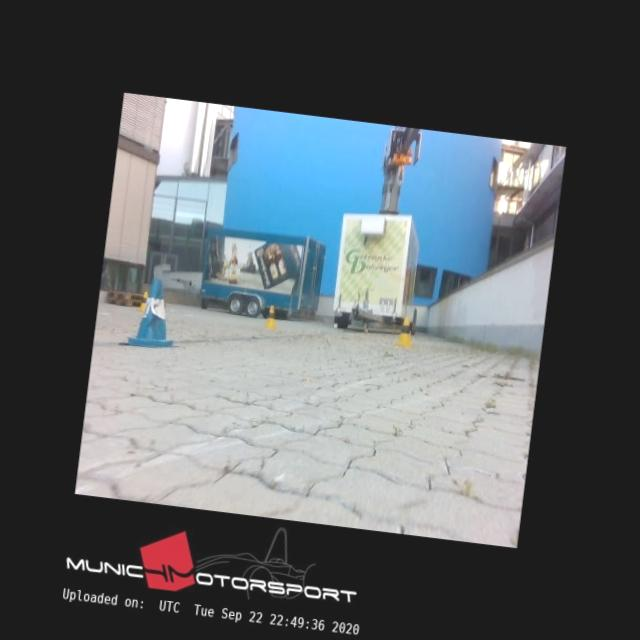blue_cone: (120, 276, 184, 351)
yellow_cone: (394, 316, 415, 348), (263, 305, 278, 329), (138, 290, 148, 311)
